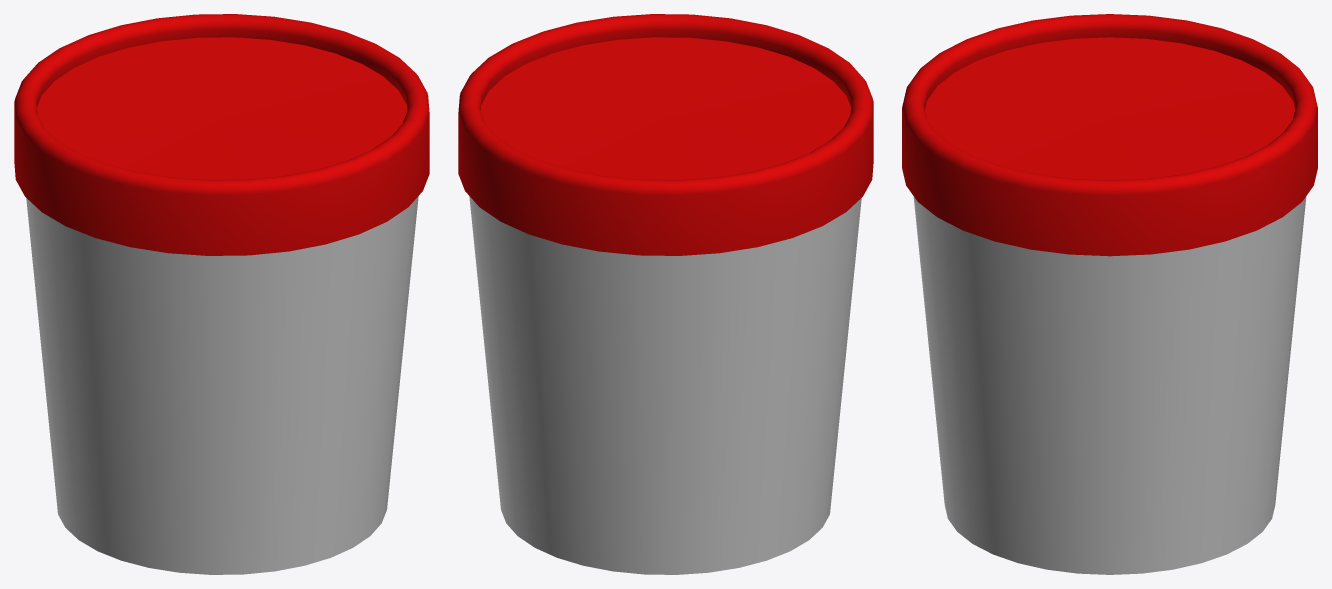
Rendered from sperm_coll.fbx.
The picture shows the model from 3 angles, left to right: view 1: azimuth 30°, elevation 25°; view 2: azimuth 150°, elevation 25°; view 3: azimuth 270°, elevation 25°; orthographic projection.
Visible parts, largest first — view 1: urine_collect; view 2: urine_collect; view 3: urine_collect.
Part boxes in pixels (box(x1,y1,x2,y2)): urine_collect: box(14, 14, 429, 574); urine_collect: box(458, 14, 873, 574); urine_collect: box(902, 14, 1317, 574).
Size of the model in its own units: 75.47 by 81.46 by 75.47.
